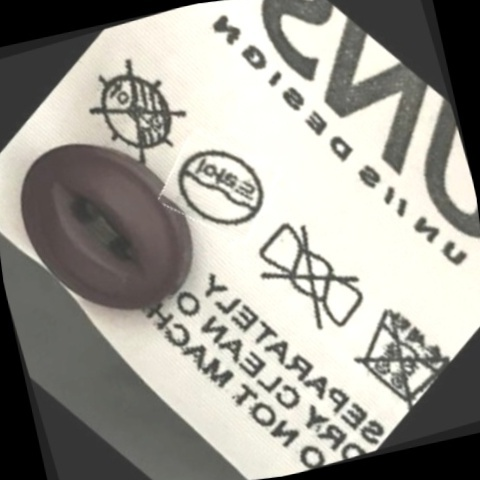DN_dry: (70, 44, 205, 180)
DN_wring: (235, 203, 387, 355)
dry_clean: (158, 126, 281, 251)
hand_wash: (333, 283, 463, 420)
